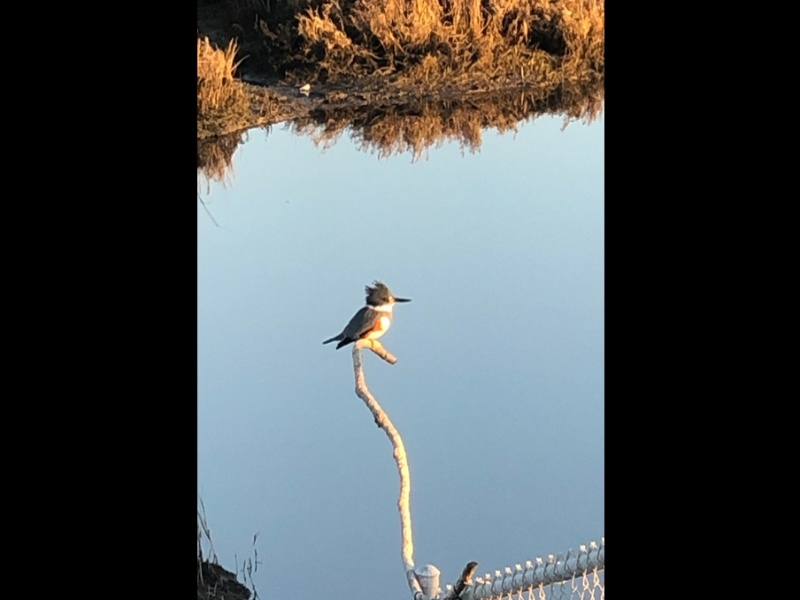kingfisher: (321, 280, 415, 354)
